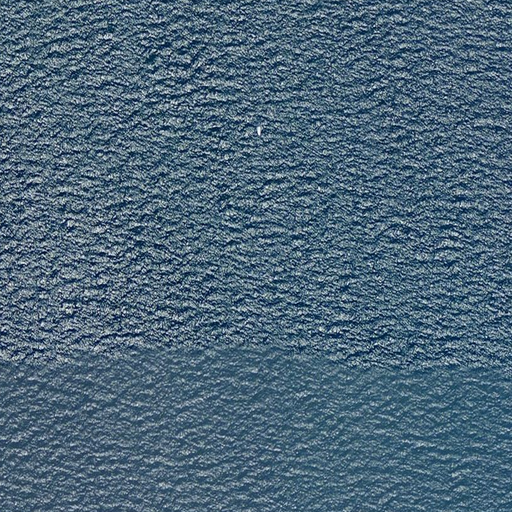ship: (255, 124, 262, 135)
